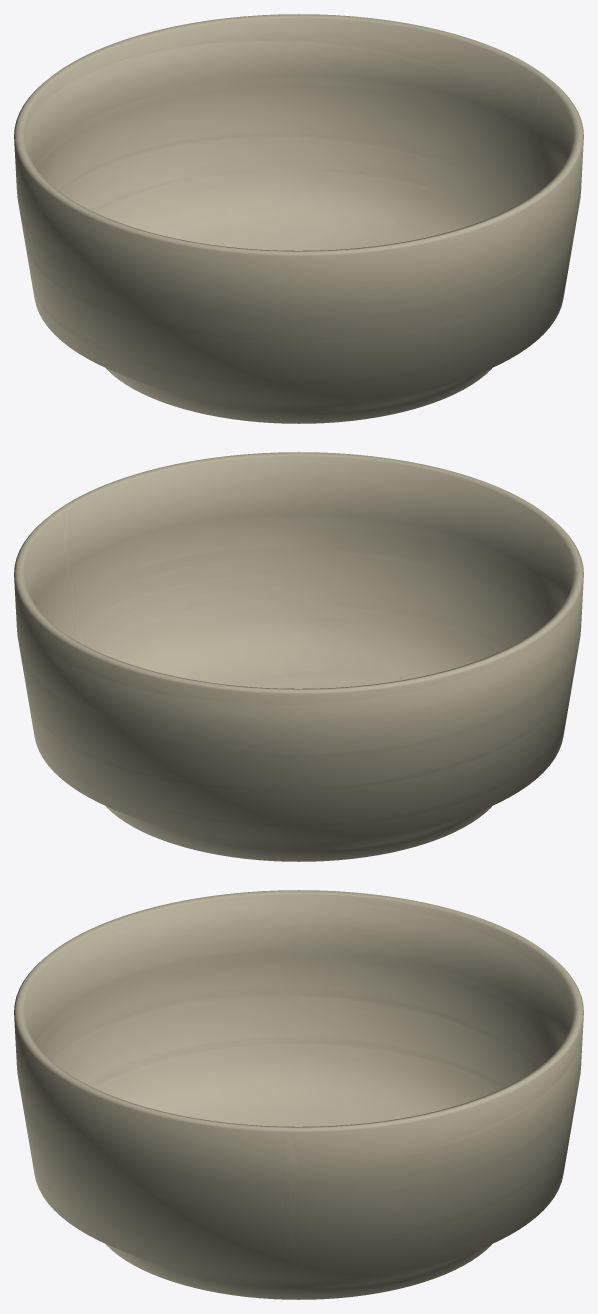
Rendered from dishware__deep_ceramic_bowl.glb.
3 views of the same model, one above another, from view 1: azimuth 30°, elevation 25°; view 2: azimuth 150°, elevation 25°; view 3: azimuth 270°, elevation 25° (orthographic).
Visible parts, largest first — view 1: body; view 2: body; view 3: body.
Boxes of the visible parts, bbox=[...] form: body: bbox=[14, 14, 583, 423]; body: bbox=[14, 452, 583, 861]; body: bbox=[14, 890, 583, 1299].
Bounding box in the file's own units: 0.181 × 0.071 × 0.181.
1 material, 1 textured.
